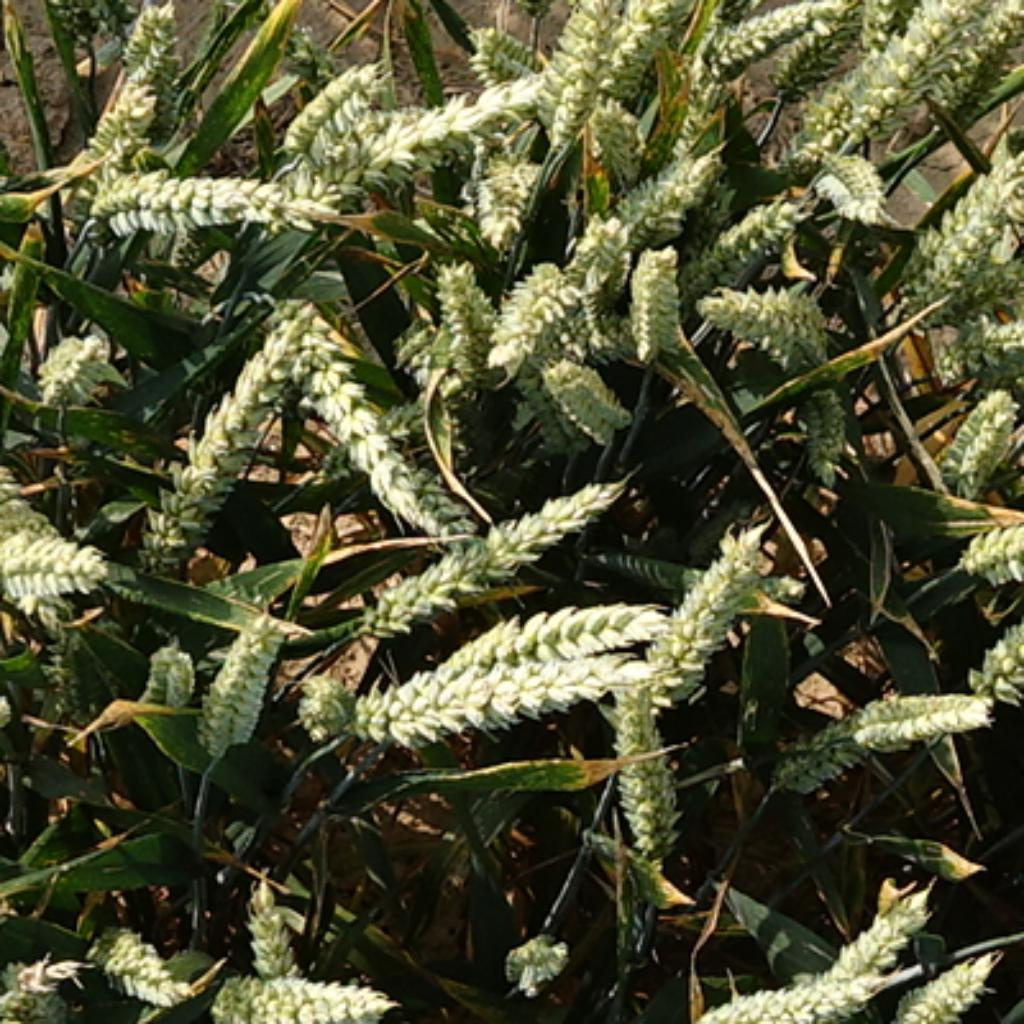0-0: (138, 317, 314, 568), (268, 84, 545, 235), (366, 476, 627, 627), (263, 301, 423, 518), (358, 655, 660, 747), (79, 143, 335, 243), (412, 594, 667, 694), (642, 522, 783, 698), (755, 888, 926, 1021), (815, 2, 969, 140), (898, 151, 1024, 312), (197, 601, 291, 750), (770, 688, 898, 793), (207, 954, 394, 1024), (698, 266, 834, 360), (929, 2, 1024, 128), (683, 186, 808, 281), (604, 696, 680, 849), (606, 140, 721, 240), (829, 678, 995, 747), (568, 202, 640, 360), (2, 499, 107, 604), (692, 964, 878, 1023), (693, 2, 834, 79), (486, 261, 586, 368), (243, 885, 317, 1024), (527, 350, 632, 445), (279, 64, 381, 158), (89, 921, 186, 1011), (665, 5, 719, 166), (942, 389, 1018, 501), (885, 949, 998, 1024), (465, 148, 545, 248), (857, 2, 913, 143), (33, 314, 120, 404), (92, 45, 160, 158), (439, 269, 497, 393), (624, 240, 686, 353), (791, 384, 857, 488), (601, 2, 673, 97), (532, 2, 592, 109), (811, 148, 890, 225), (768, 23, 860, 89), (2, 949, 81, 1024), (396, 328, 467, 409), (294, 660, 366, 734), (465, 23, 560, 79), (494, 929, 570, 998), (949, 299, 1024, 366), (125, 2, 184, 84), (581, 94, 645, 168), (952, 524, 1024, 586), (140, 629, 199, 704), (550, 68, 598, 152), (984, 619, 1024, 709)
